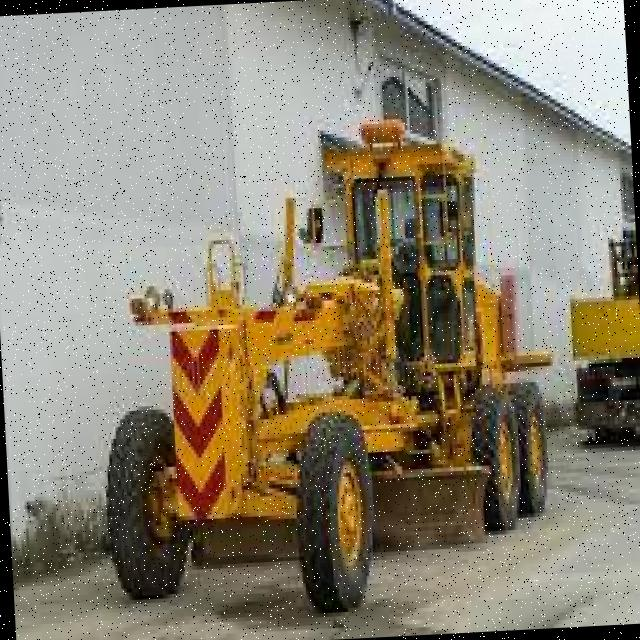Grader: (64, 86, 594, 622)
